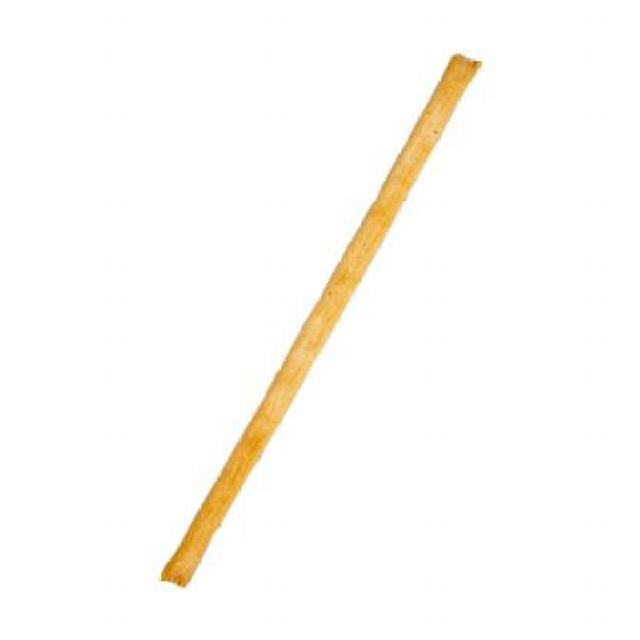Grissini: (159, 51, 484, 591)
